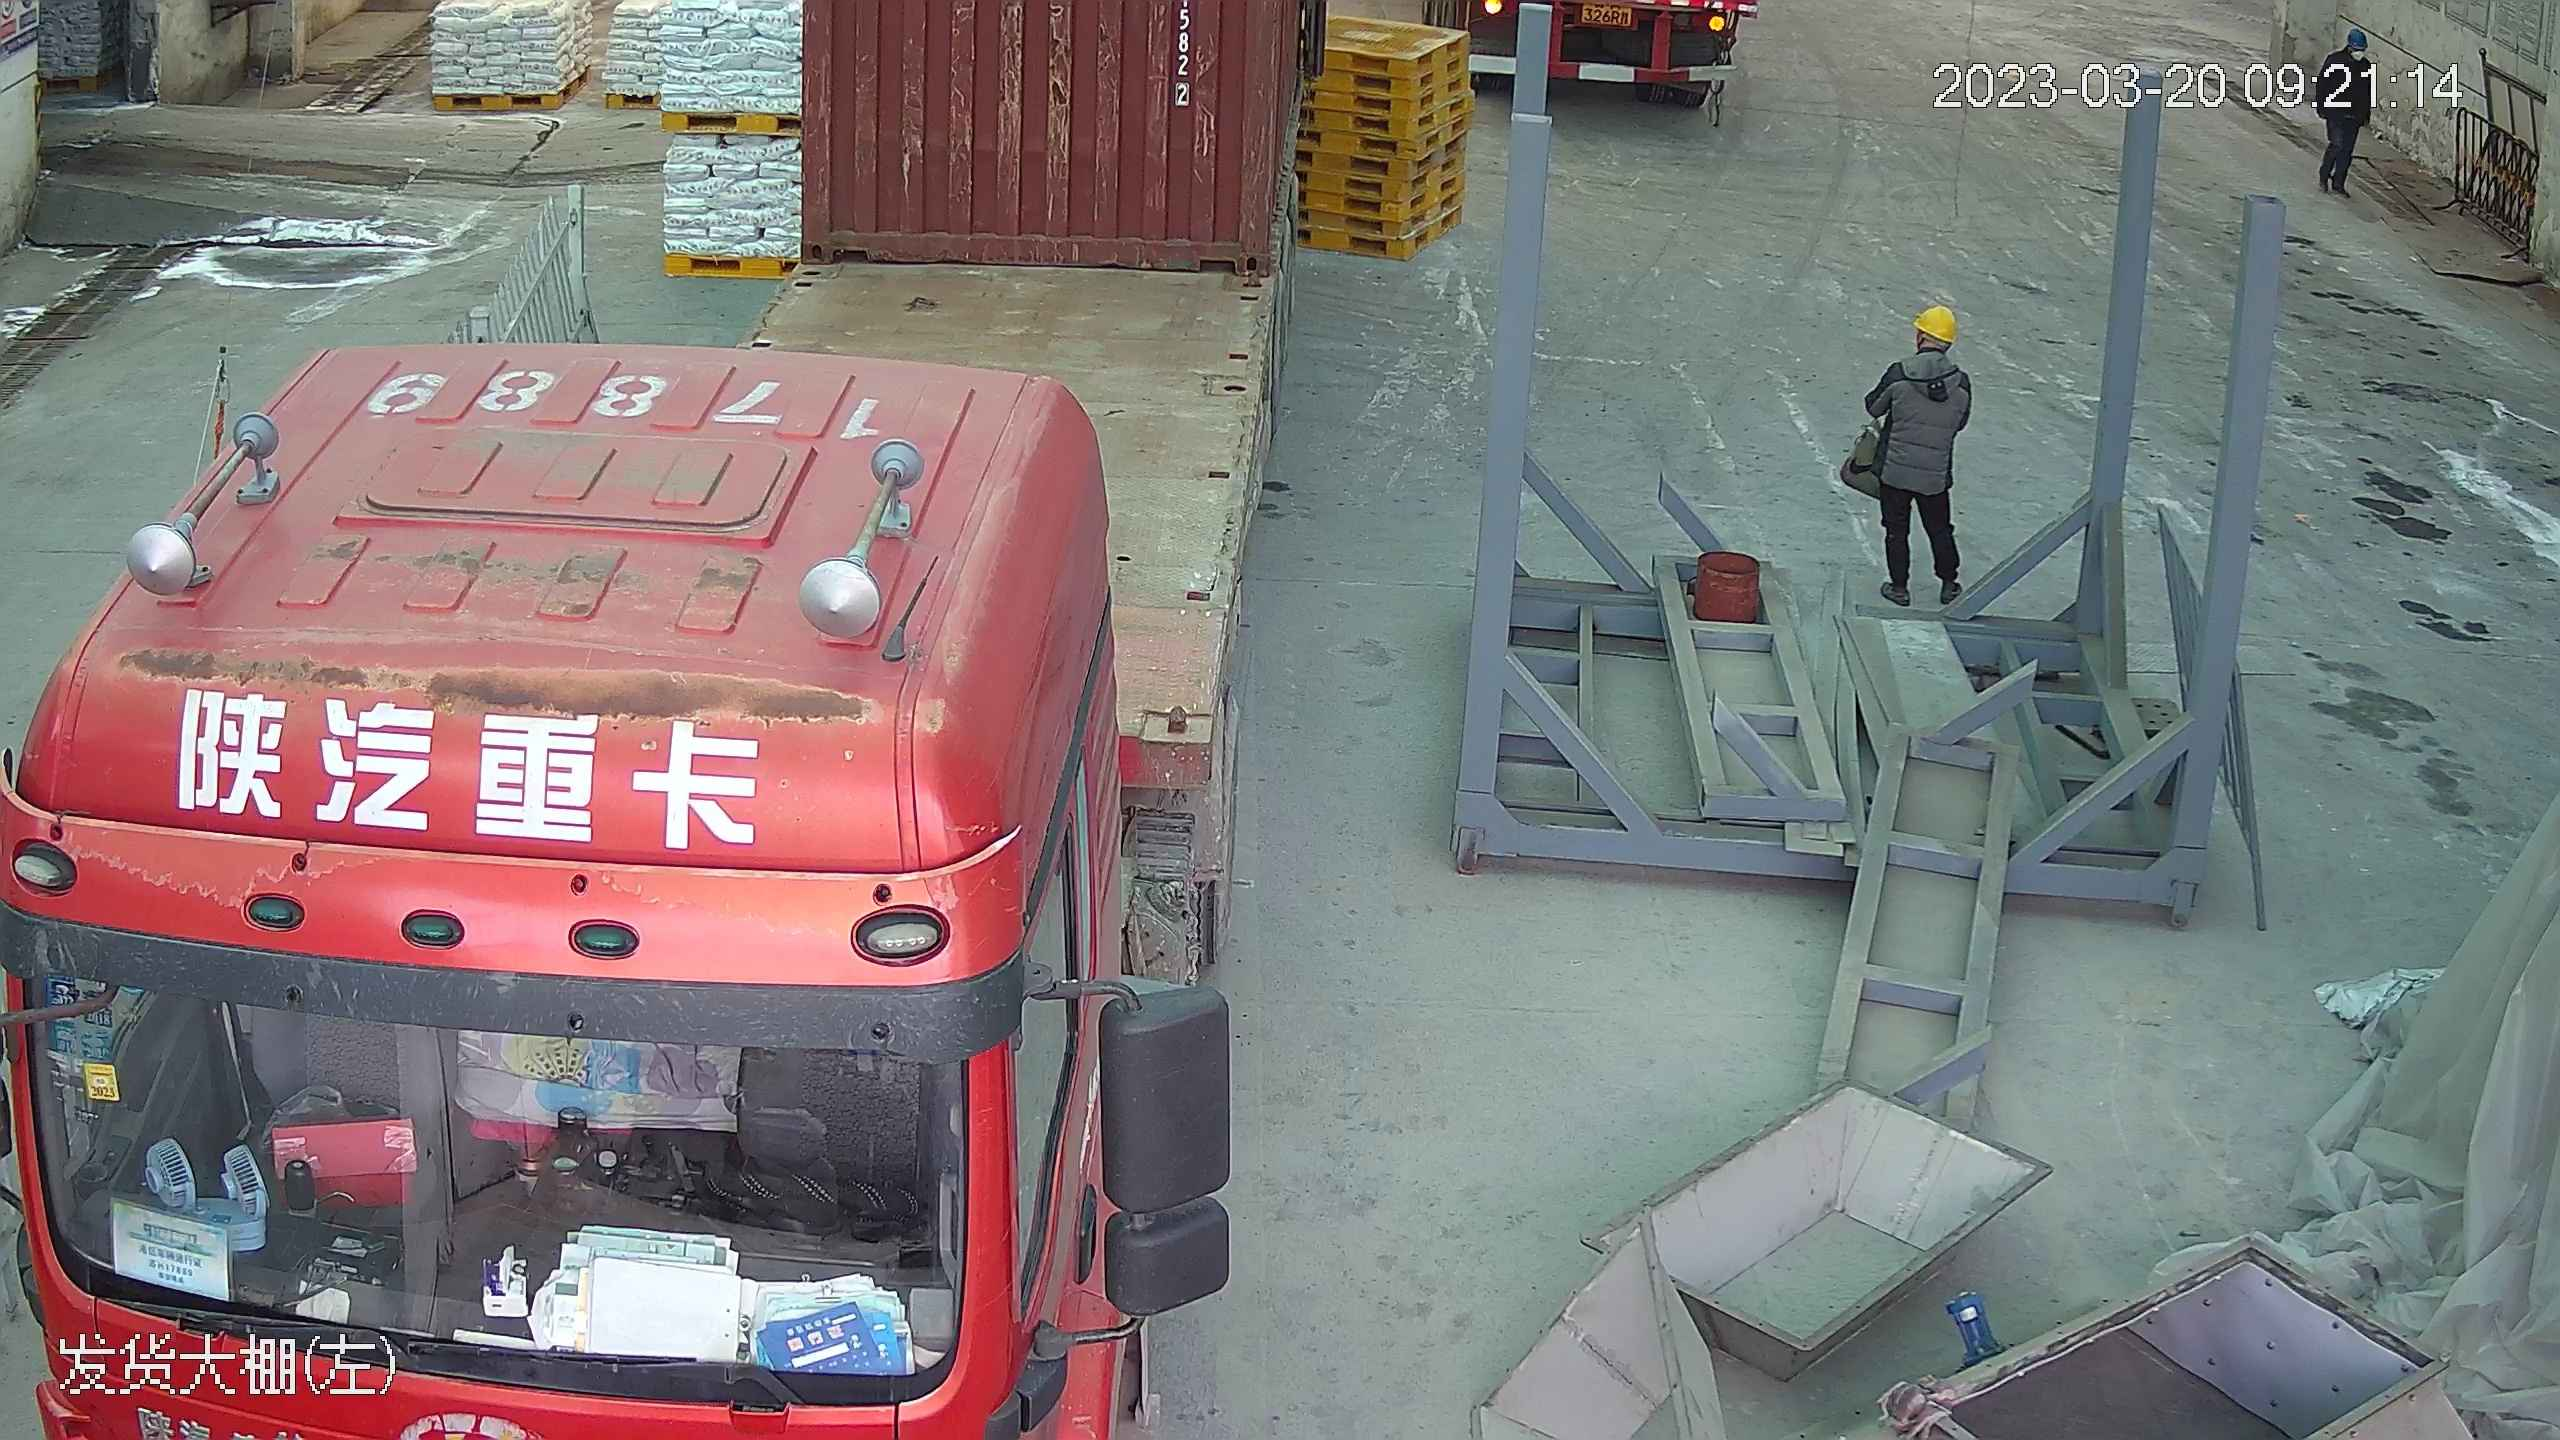head: (1873, 301, 1971, 404), (2322, 24, 2374, 82)
helmet: (1909, 303, 1959, 341), (2341, 23, 2369, 47)
people: (1842, 298, 1975, 611), (2309, 25, 2377, 203)
truck: (7, 14, 1284, 1440)
